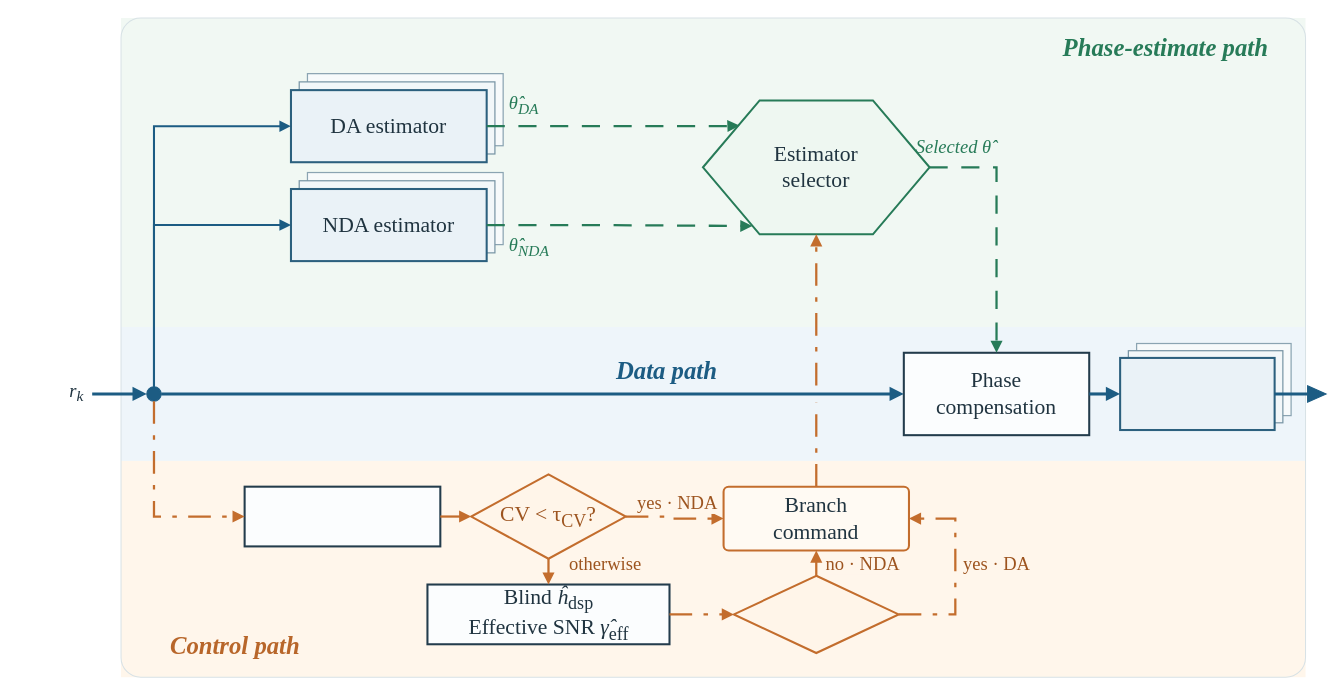
Some shapes in this 1344 by 695 pixel diagram are drawn without their labels. Each missing label, with the centre of its shape:
Common downstream DSP: (x=1197, y=393)
Window power statistics: (x=342, y=516)
γ̂ eff < 13 dB?: (x=815, y=614)
